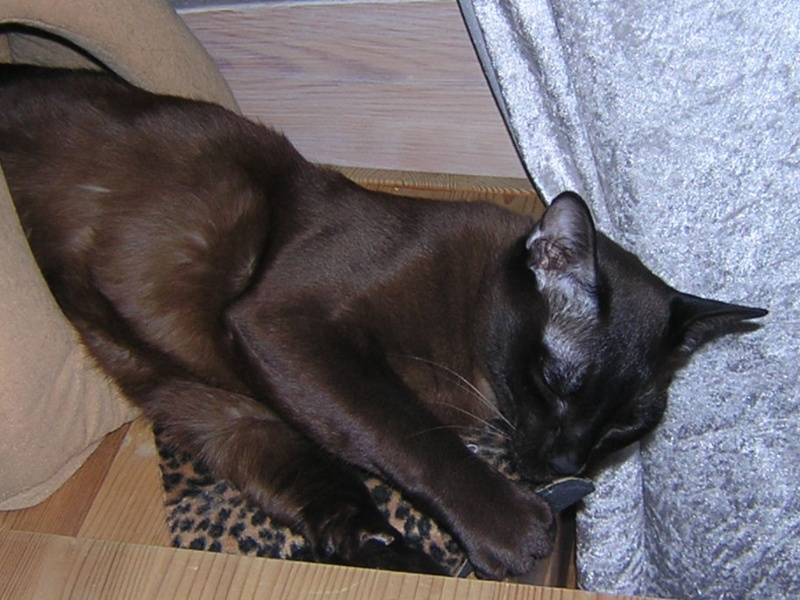cat: (11, 54, 775, 566)
